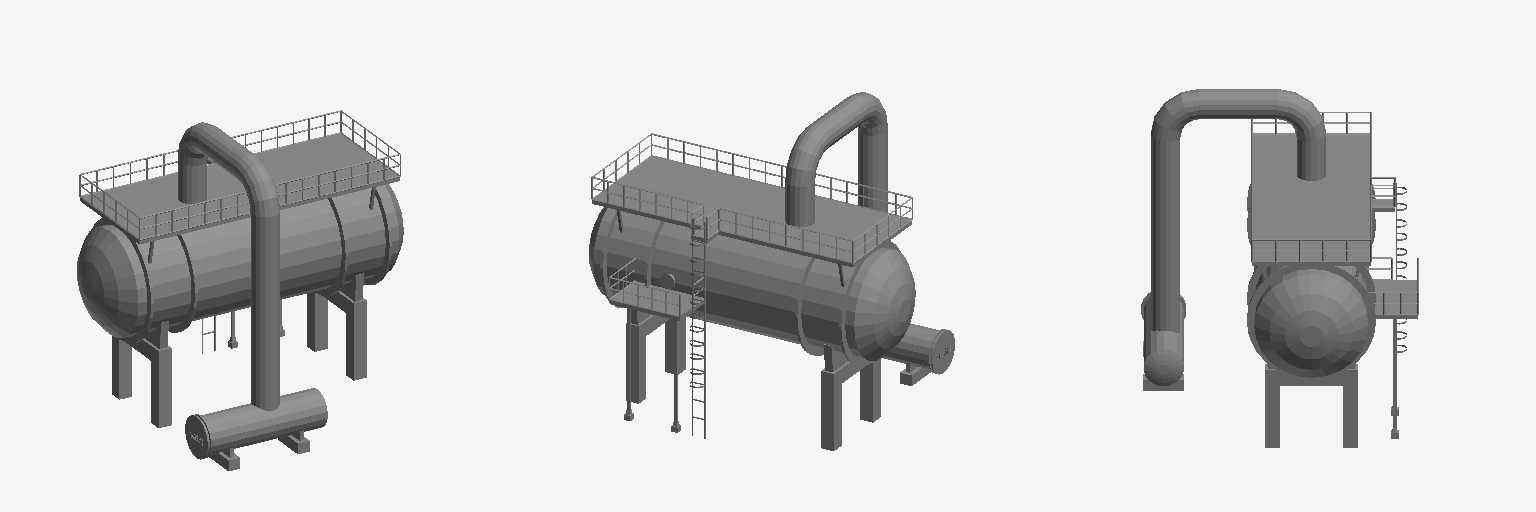
The model's file is tank_0.obj.
The picture shows the model from 3 angles: view 1: azimuth 30°, elevation 25°; view 2: azimuth 150°, elevation 25°; view 3: azimuth 270°, elevation 25°; orthographic projection.
Visible parts, largest first — view 1: EQUIP_V505, EQUIP_SFG, Object001; view 2: EQUIP_V505, Object001, EQUIP_SFG; view 3: EQUIP_V505, EQUIP_SFG, Object001.
Boxes of the visible parts, x1=… form: EQUIP_V505: x1=77, y1=122, x2=403, y2=427; EQUIP_SFG: x1=185, y1=388, x2=327, y2=470; Object001: x1=79, y1=110, x2=400, y2=240; EQUIP_V505: x1=589, y1=92, x2=915, y2=450; Object001: x1=591, y1=133, x2=912, y2=316; EQUIP_SFG: x1=883, y1=323, x2=954, y2=385; EQUIP_V505: x1=1151, y1=89, x2=1417, y2=447; EQUIP_SFG: x1=1141, y1=292, x2=1185, y2=390; Object001: x1=1251, y1=112, x2=1418, y2=314.
Size of the model in its own units: 11.68 by 10.41 by 9.21.